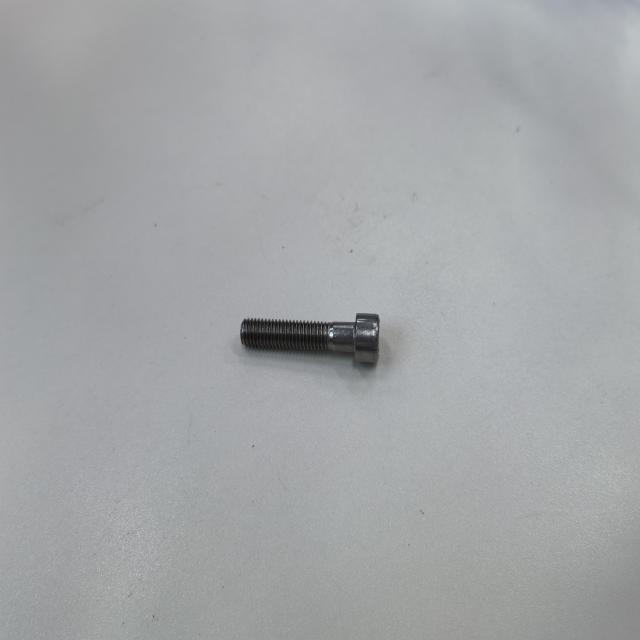screws: (241, 306, 380, 368)
